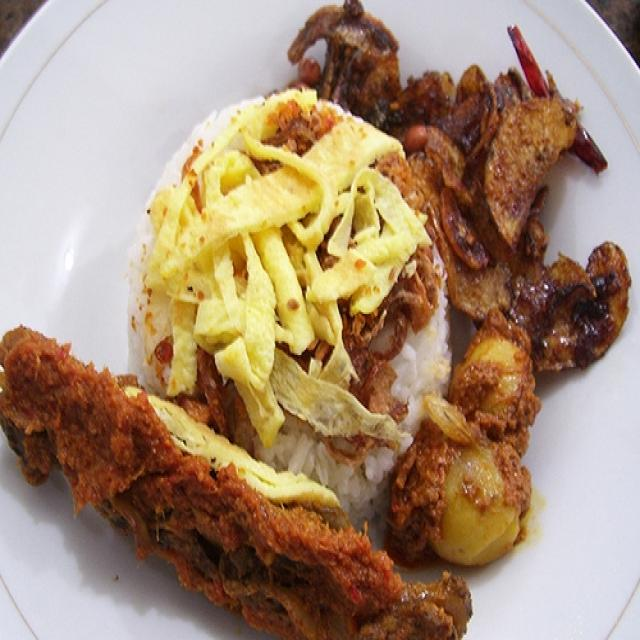米饭主食: (18, 12, 613, 613)
